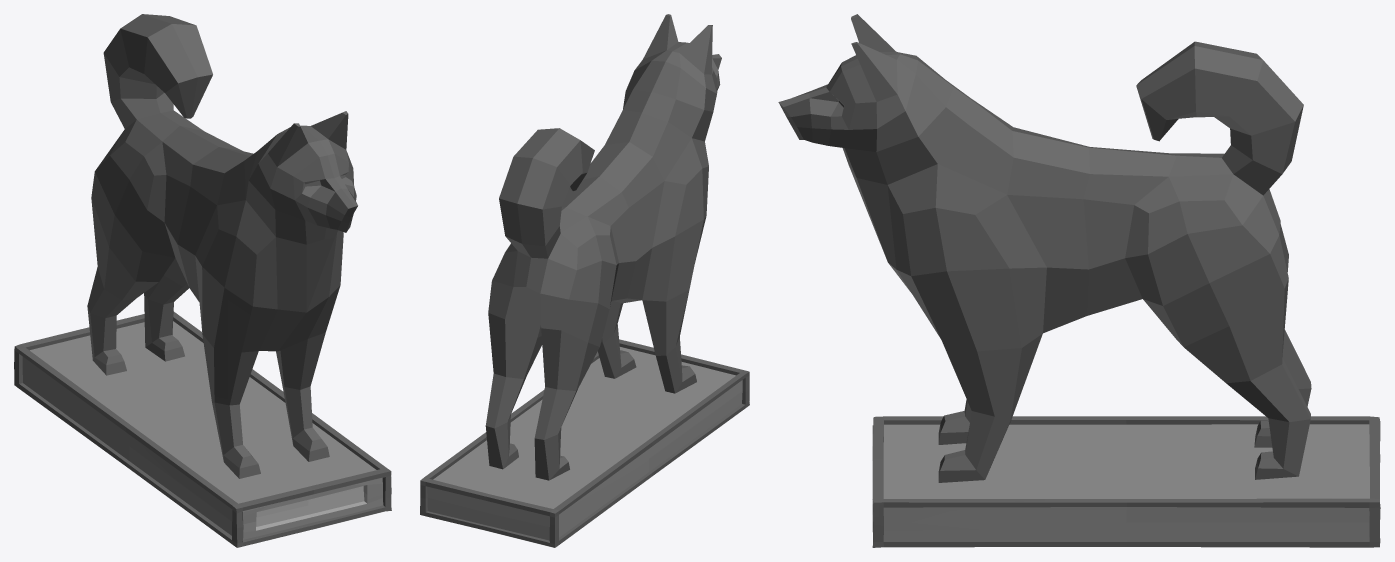
Rendered from cat.fbx.
3 renders of one model, left to right at view 1: azimuth 30°, elevation 25°; view 2: azimuth 150°, elevation 25°; view 3: azimuth 270°, elevation 25°, orthographic. The views are drawn at different scales.
Visible parts, largest first — view 1: cat; view 2: cat; view 3: cat.
Boxes of the visible parts, x1,y1,x2,y2 form: cat: (14,14,391,547); cat: (420,14,749,547); cat: (778,14,1380,547).
Size of the model in its own units: 0.3895 by 1.15 by 1.
1 material, 1 textured.
